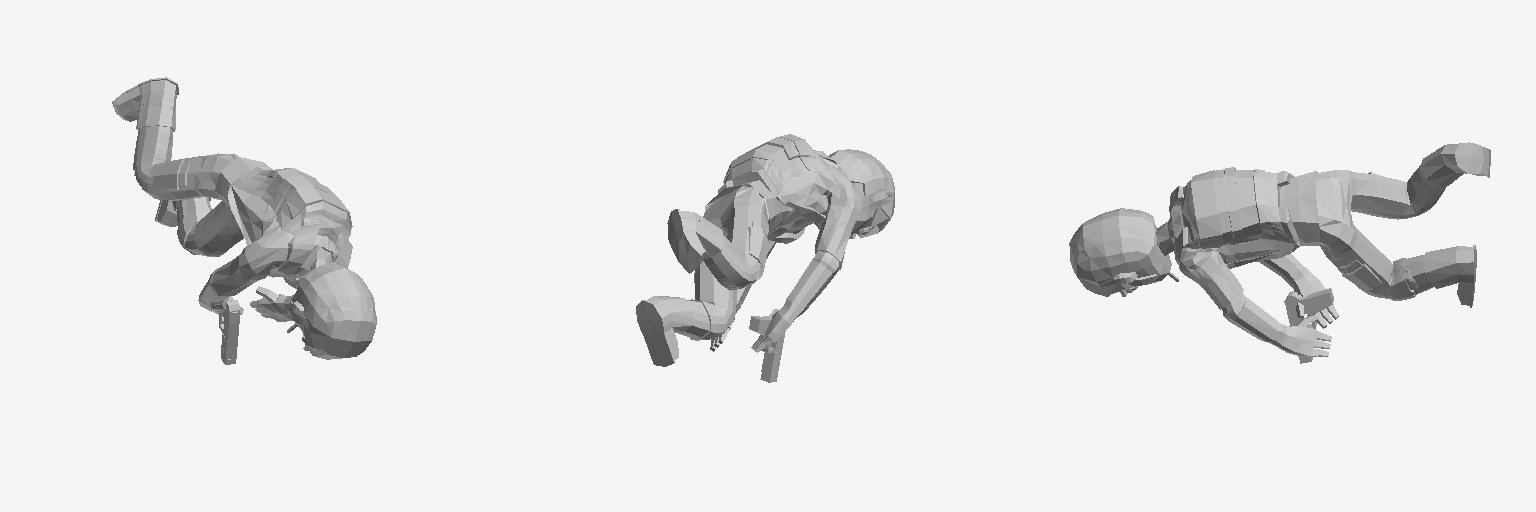
Rendered from frame_0040.obj.
The picture shows the model from 3 angles: view 1: azimuth 30°, elevation 25°; view 2: azimuth 150°, elevation 25°; view 3: azimuth 270°, elevation 25°; orthographic projection.
Visible parts, largest first — view 1: Body, Gun; view 2: Body, Gun; view 3: Body, Gun.
Part boxes in pixels (bbox=[...]): Body: bbox=[112, 77, 376, 359]; Gun: bbox=[219, 296, 239, 364]; Body: bbox=[636, 134, 894, 366]; Gun: bbox=[749, 309, 785, 382]; Body: bbox=[1069, 142, 1490, 357]; Gun: bbox=[1284, 288, 1333, 363].
Size of the model in its own units: 1.25 by 2.3 by 3.89.